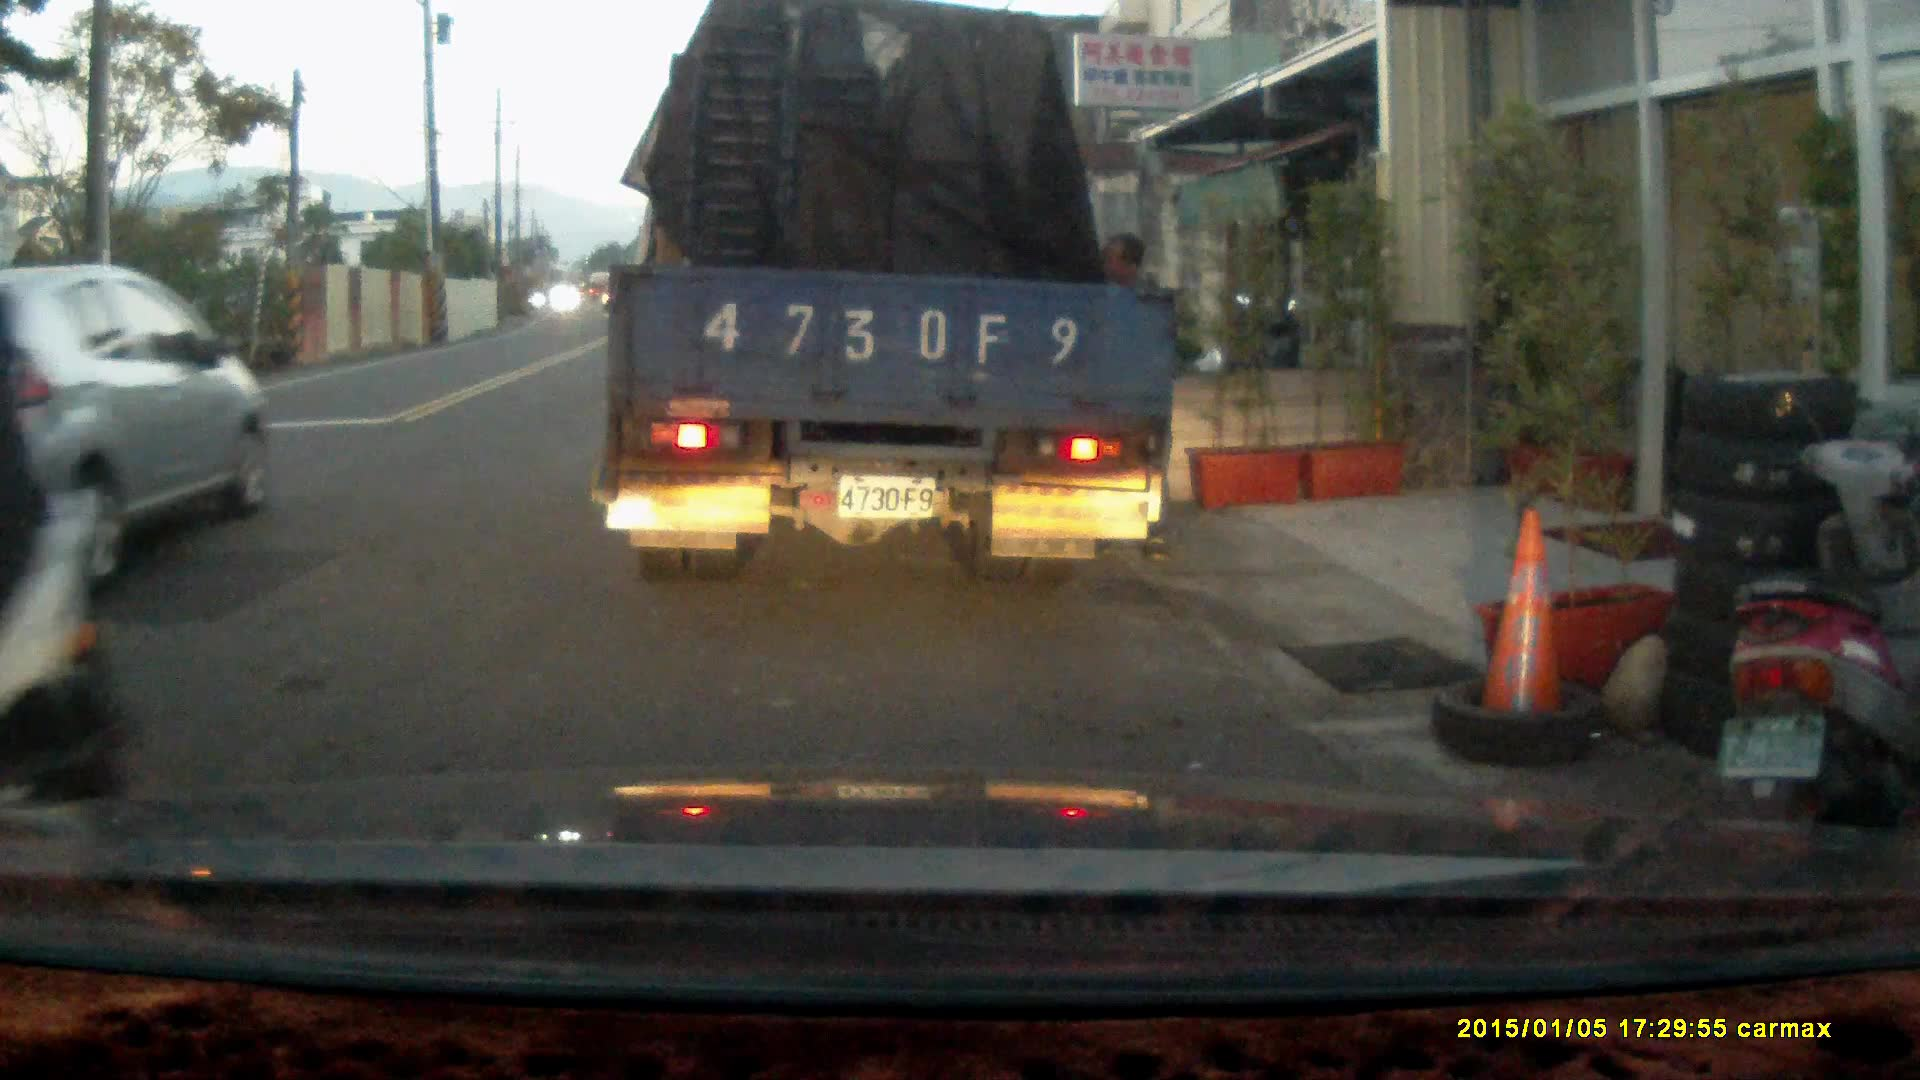pedestrian: (1083, 231, 1184, 567)
vehicle: (600, 23, 1185, 572), (3, 259, 267, 541)
